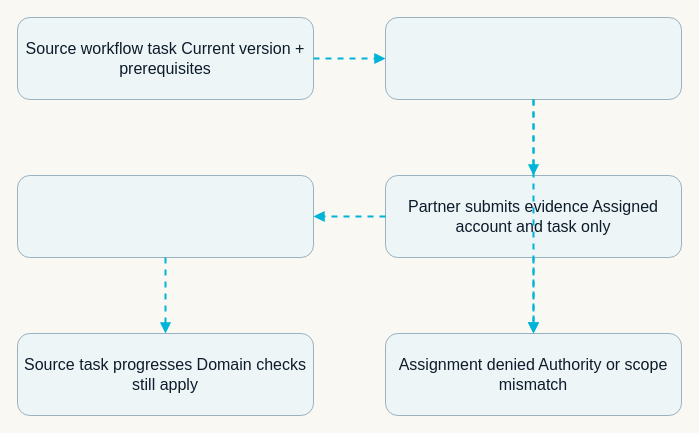
This 699x433 diagram has some shape labels left out. The shapes that lost their labels are listed below. From the top down, each one's centre as x and y in pixels, then its label:
the point at 533,58: Scoped assignment Eligible task + instructions
the point at 165,216: Internal reviewer Accept or return the submission
